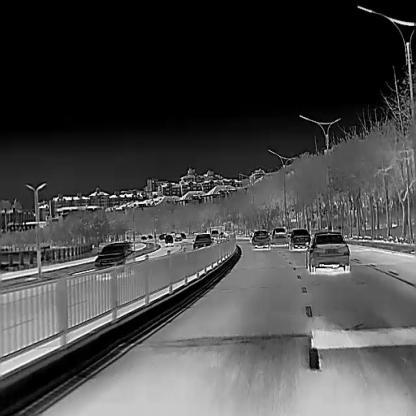car: (305, 230, 350, 273), (93, 242, 136, 277), (288, 228, 311, 251), (251, 229, 270, 250), (192, 233, 212, 251), (270, 227, 288, 244), (163, 233, 174, 244), (174, 233, 182, 242)
